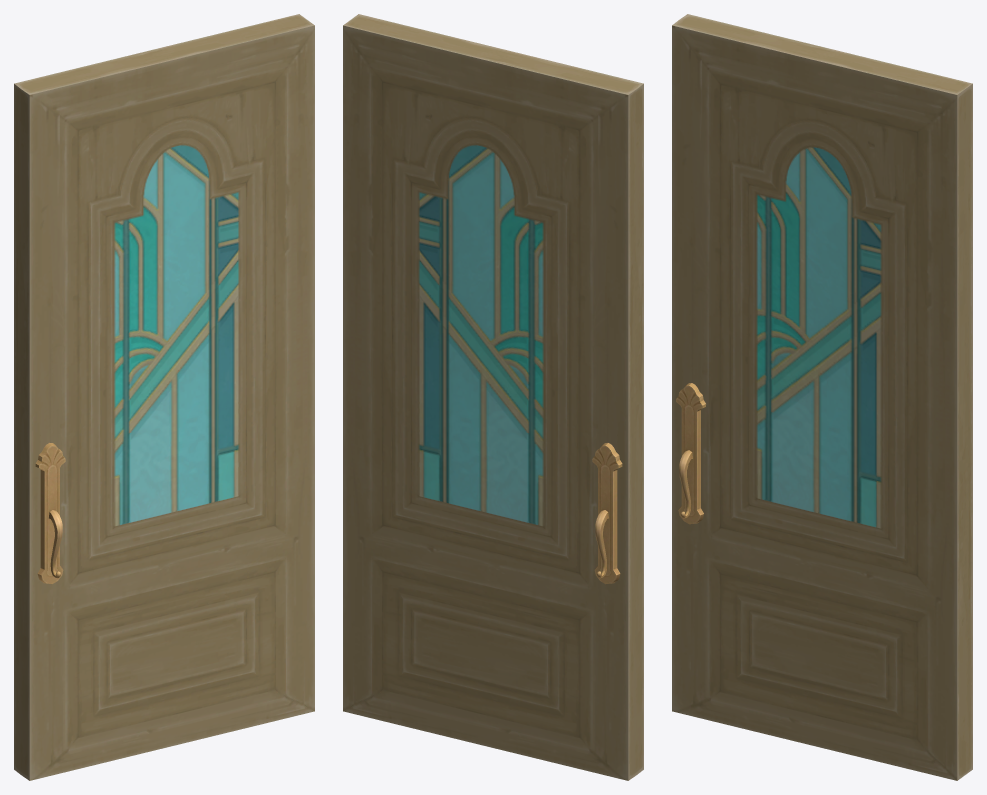
File: Homeworld_Ani_Interior_Fd_Room_Door_03_02_Vo.fbx
3 renders of one model, left to right at view 1: azimuth 30°, elevation 25°; view 2: azimuth 150°, elevation 25°; view 3: azimuth 330°, elevation 25°, orthographic.
Visible parts, largest first — view 1: Homeworld_Ani_Interior_Fd_Room_Door_03_02_Vo; view 2: Homeworld_Ani_Interior_Fd_Room_Door_03_02_Vo; view 3: Homeworld_Ani_Interior_Fd_Room_Door_03_02_Vo.
Part boxes in pixels (x1,y1,x2,y2): Homeworld_Ani_Interior_Fd_Room_Door_03_02_Vo: (14, 14, 314, 780); Homeworld_Ani_Interior_Fd_Room_Door_03_02_Vo: (343, 14, 643, 780); Homeworld_Ani_Interior_Fd_Room_Door_03_02_Vo: (672, 14, 972, 780).
Bounding box in the file's own units: 1.34 × 3.07 × 0.3074.
